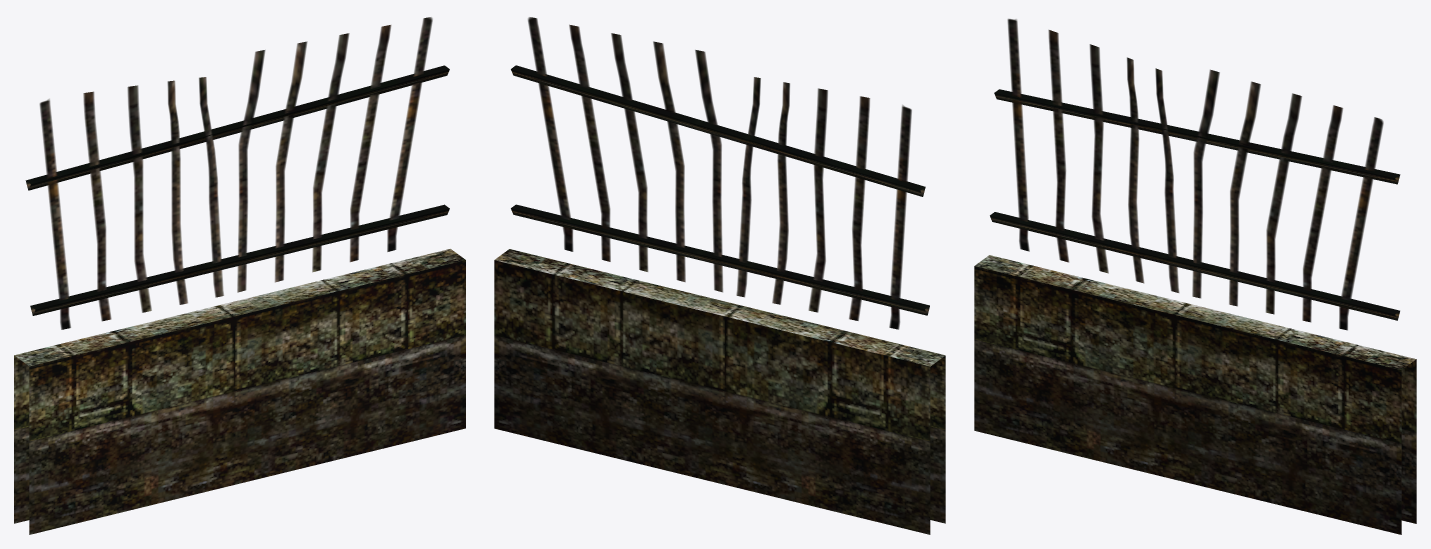
The model's file is cem_fence4.glb.
3 renders of one model, left to right at view 1: azimuth 30°, elevation 25°; view 2: azimuth 150°, elevation 25°; view 3: azimuth 330°, elevation 25°, orthographic. The views are drawn at different scales.
Parts seen in each view (by area): view 1: cem_fence4; view 2: cem_fence4; view 3: cem_fence4.
Boxes of the visible parts, left/top/right/bottom form: cem_fence4: left=14, top=17, right=465, bottom=534; cem_fence4: left=494, top=17, right=945, bottom=534; cem_fence4: left=974, top=19, right=1416, bottom=534.
Bounding box in the file's own units: 3.84 × 3.54 × 0.2339.
3 materials, 3 textured.
